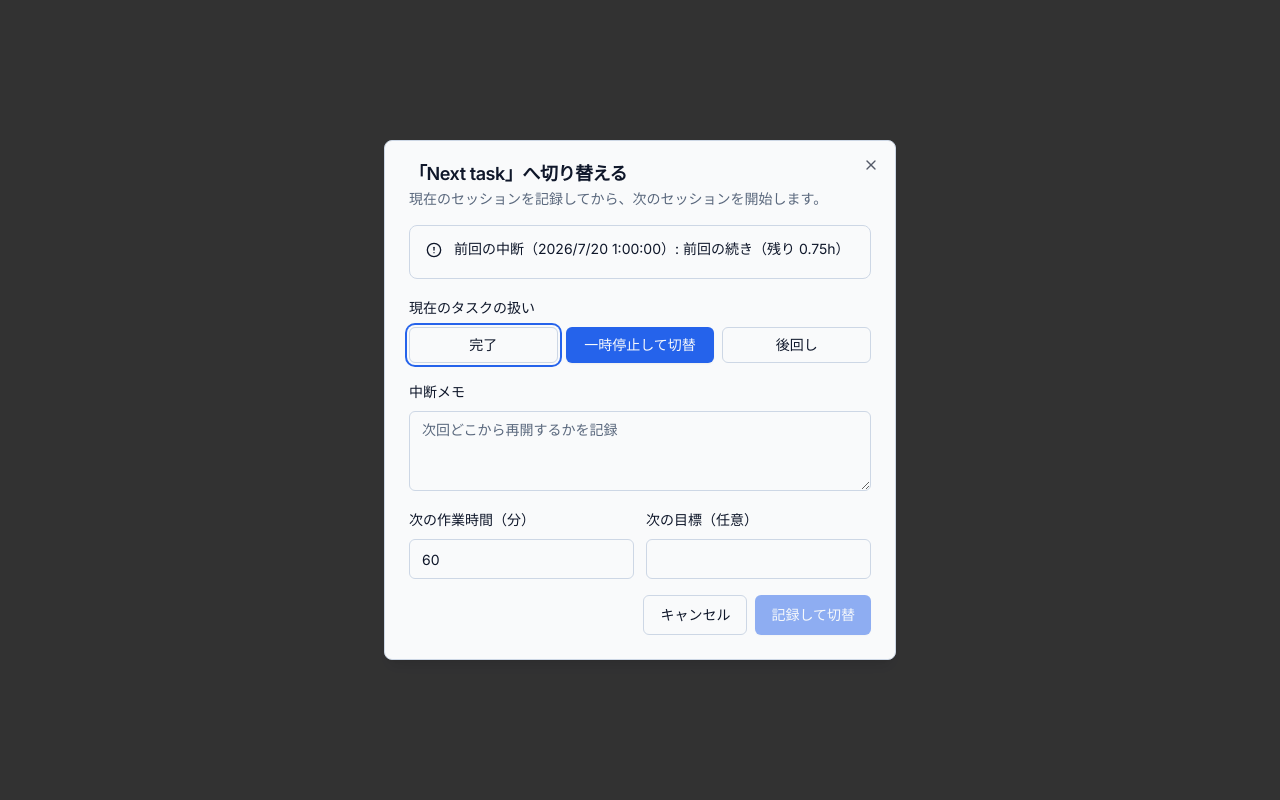
Test: TaskSwitchDialog › requires an interruption note for pause and shows resume context
Expected: the button "記録して切替" is disabled, 755,595 -> 871,635
Expected: the text "前回の中断（2026/7/20 1:00:00）: 前回の続き（残り 0.75h）" is shown, 426,239 -> 854,259
Type "ここから再開" into the text box labelled "中断メモ".
click(640, 451); type("ここから再開")  # box 409,411 -> 871,491
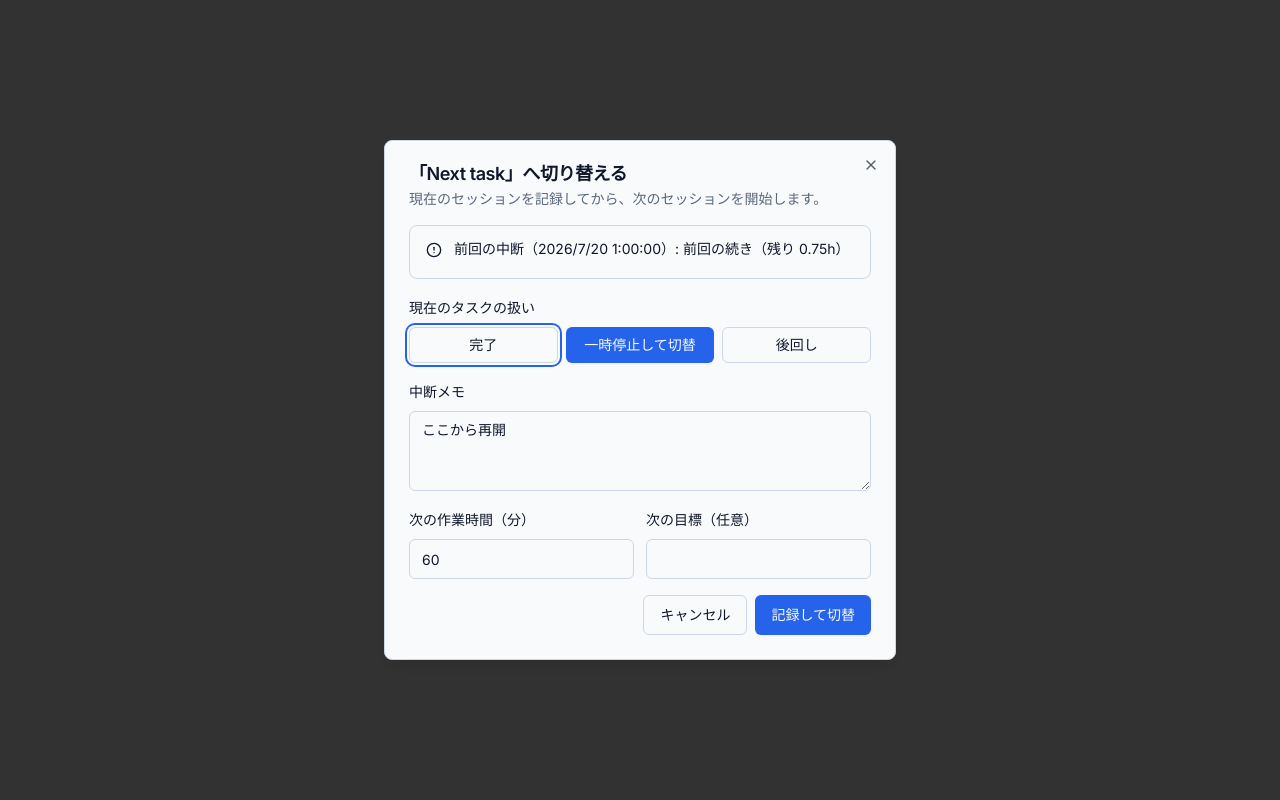
Expected: the button "記録して切替" is enabled, 755,595 -> 871,635
